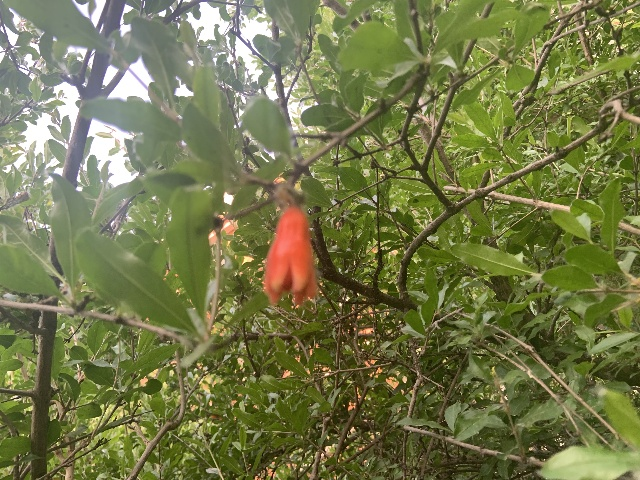flower: (261, 205, 319, 305)
